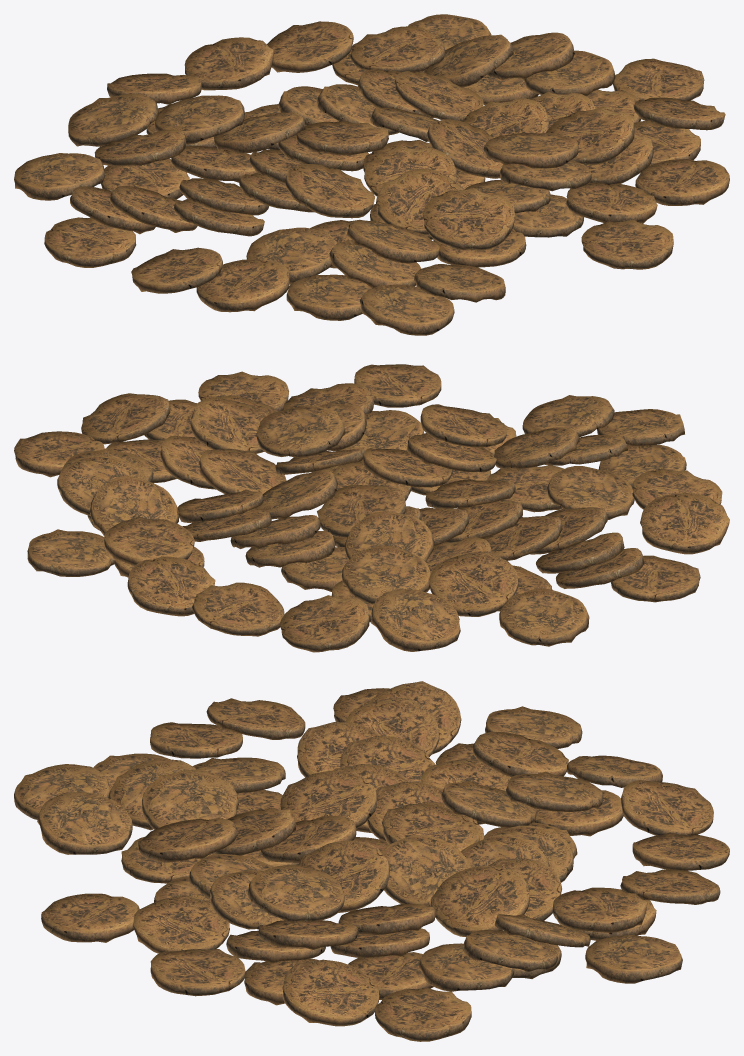
File: coin.glb
3 views of the same model, one above another, from view 1: azimuth 30°, elevation 25°; view 2: azimuth 150°, elevation 25°; view 3: azimuth 270°, elevation 25° (orthographic). The views are drawn at different scales.
Visible parts, largest first — view 1: Coins_Coin_0; view 2: Coins_Coin_0; view 3: Coins_Coin_0.
Part boxes in pixels (x1,y1,x2,y2): Coins_Coin_0: (14,14,729,335); Coins_Coin_0: (14,364,729,652); Coins_Coin_0: (14,681,729,1041).
Size of the model in its own units: 0.386 by 0.0251 by 0.3399.
Materials: 1 (1 with a texture image).
